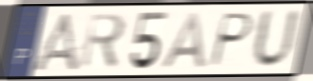5: (128, 10, 170, 72)
A: (30, 10, 82, 73), (158, 10, 209, 70)
P: (207, 11, 256, 69)
R: (78, 11, 128, 71)
U: (250, 7, 303, 72)
